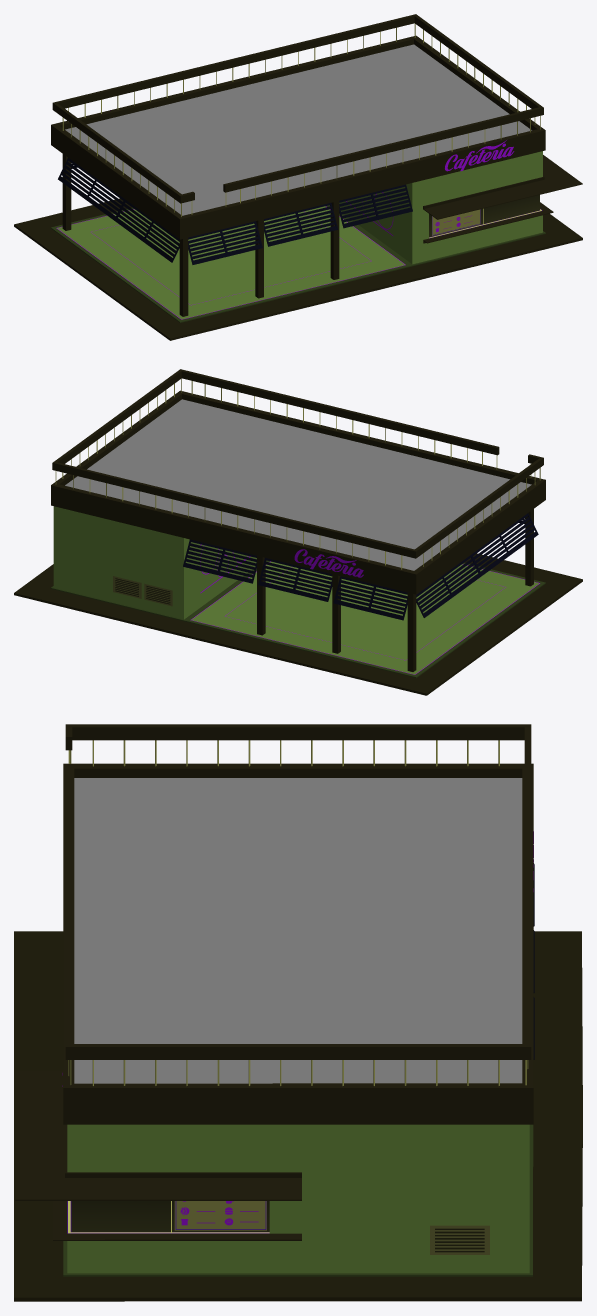
File: Building_Cafe_005_L3.fbx
The picture shows the model from 3 angles, top to bottom: view 1: azimuth 30°, elevation 25°; view 2: azimuth 150°, elevation 25°; view 3: azimuth 270°, elevation 25°; orthographic projection. The views are drawn at different scales.
Visible parts, largest first — view 1: Building_Cafe_005_L3; view 2: Building_Cafe_005_L3; view 3: Building_Cafe_005_L3.
Part boxes in pixels (box(x1,y1,x2,y2)): Building_Cafe_005_L3: box(14, 14, 582, 340); Building_Cafe_005_L3: box(14, 369, 582, 695); Building_Cafe_005_L3: box(14, 724, 582, 1301).
Bounding box in the file's own units: 19.87 × 5.88 × 13.04.
